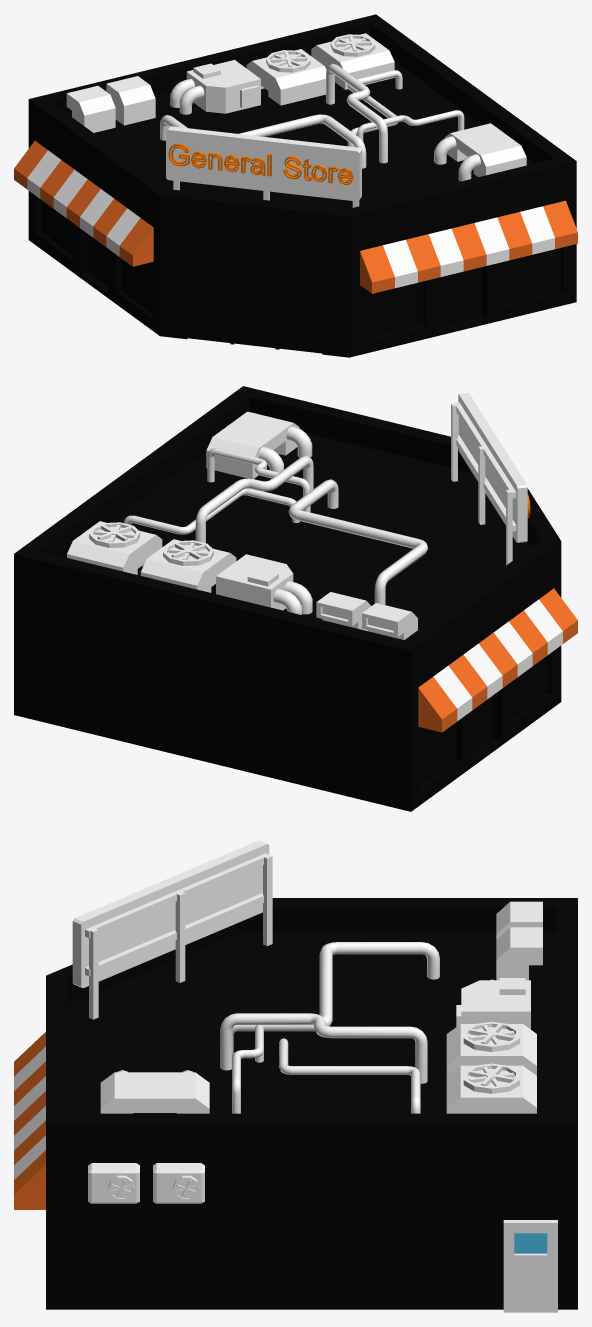
Rendered from General_Store_02.FBX.
3 renders of one model, top to bottom at view 1: azimuth 30°, elevation 25°; view 2: azimuth 150°, elevation 25°; view 3: azimuth 270°, elevation 25°, orthographic. The views are drawn at different scales.
Parts seen in each view (by area): view 1: General_Store_02; view 2: General_Store_02; view 3: General_Store_02.
Boxes of the visible parts, box(x1,y1,x2,y2) form: General_Store_02: box(14, 14, 577, 357); General_Store_02: box(14, 386, 577, 811); General_Store_02: box(14, 840, 577, 1312).
Size of the model in its own units: 23.2 by 11.19 by 22.28.
